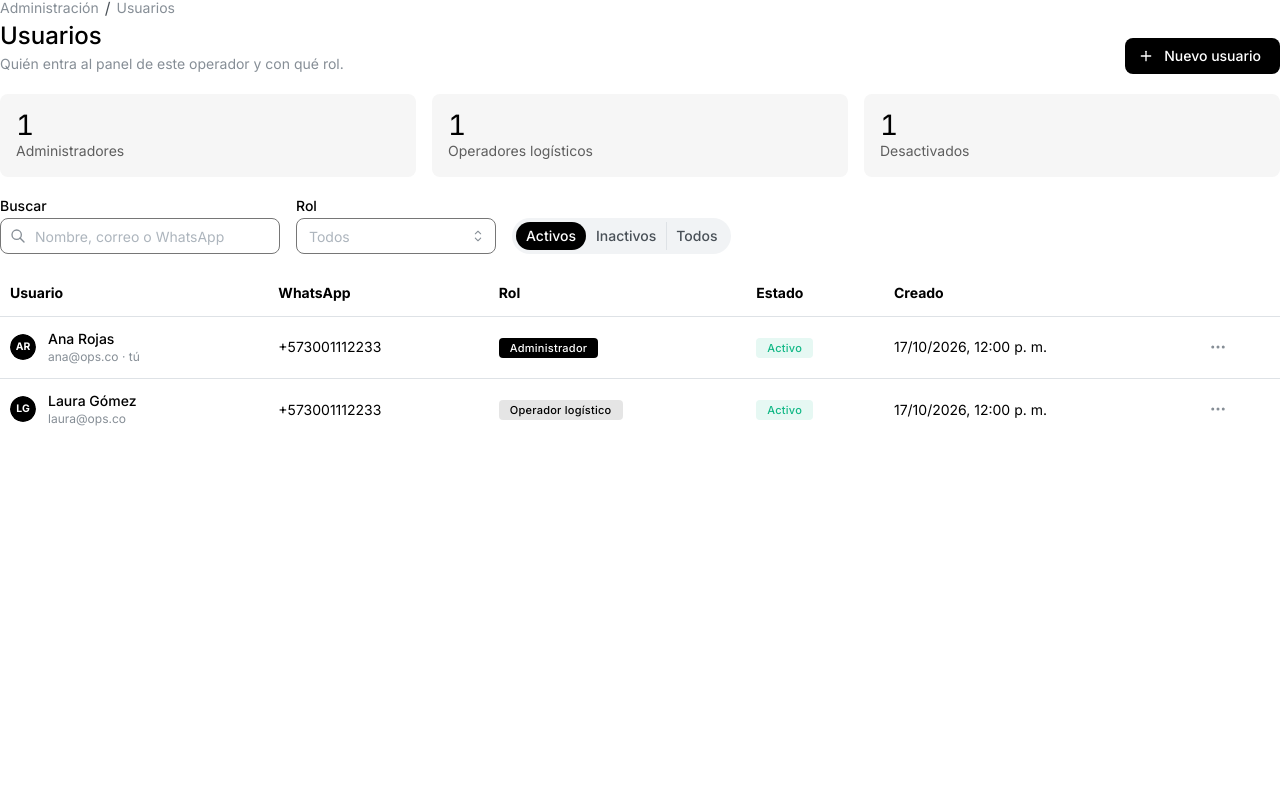
Test: Usuarios del panel (RF-02, RF-24, RF-25) › desactivar pide confirmación; uno mismo no puede cambiarse el rol ni el estado
Click the button named "Acciones de Ana Rojas".
click(1218, 347)  # box [1204, 333, 1232, 361]
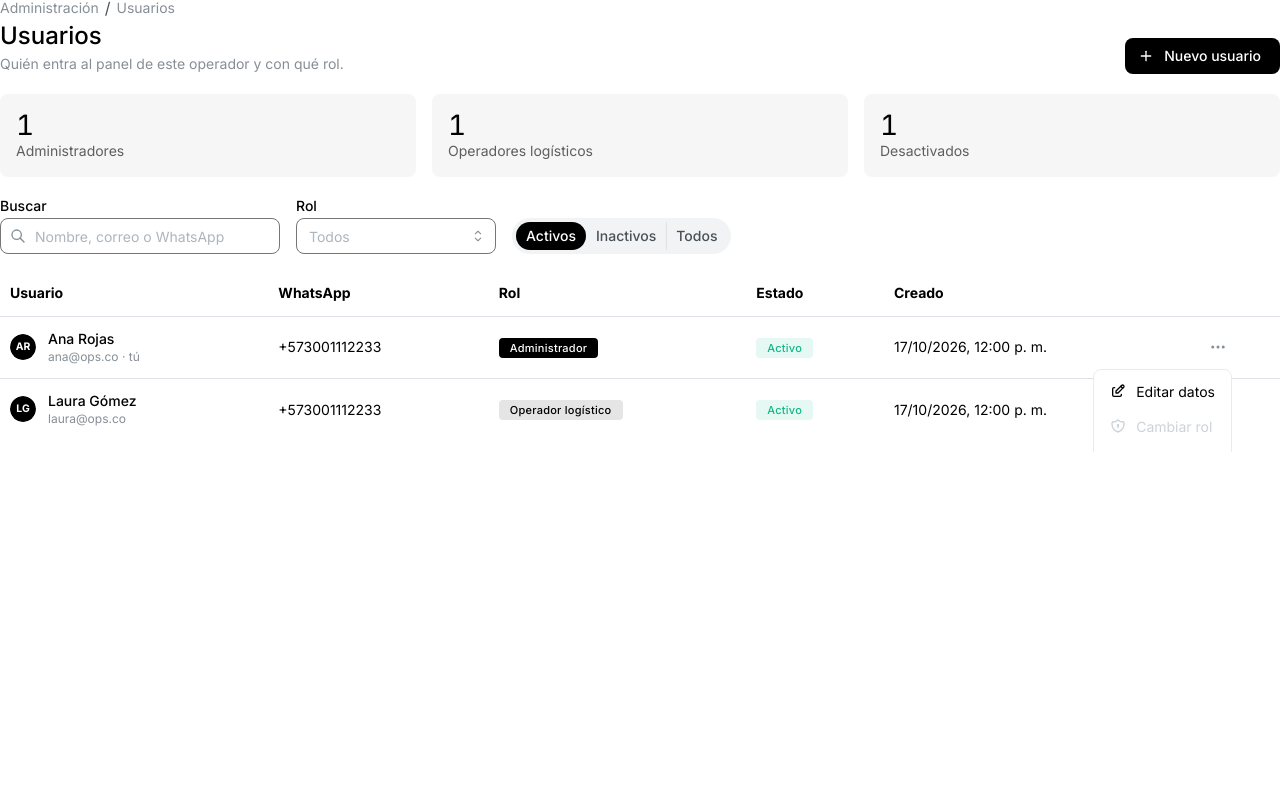
Check: the menu item "Cambiar rol" is disabled, box [1098, 409, 1227, 444]
Press Escape
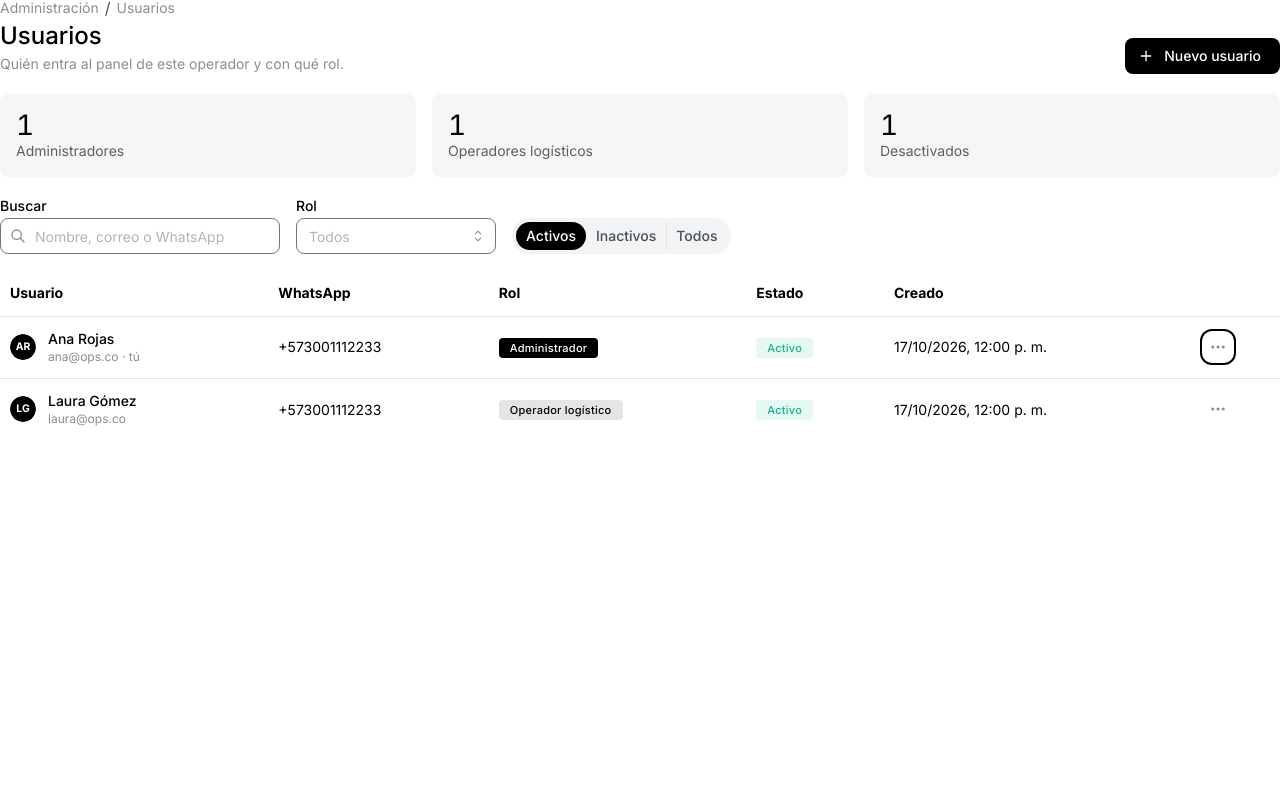
Click the button named "Acciones de Laura Gómez".
click(1218, 409)  # box [1204, 395, 1232, 423]
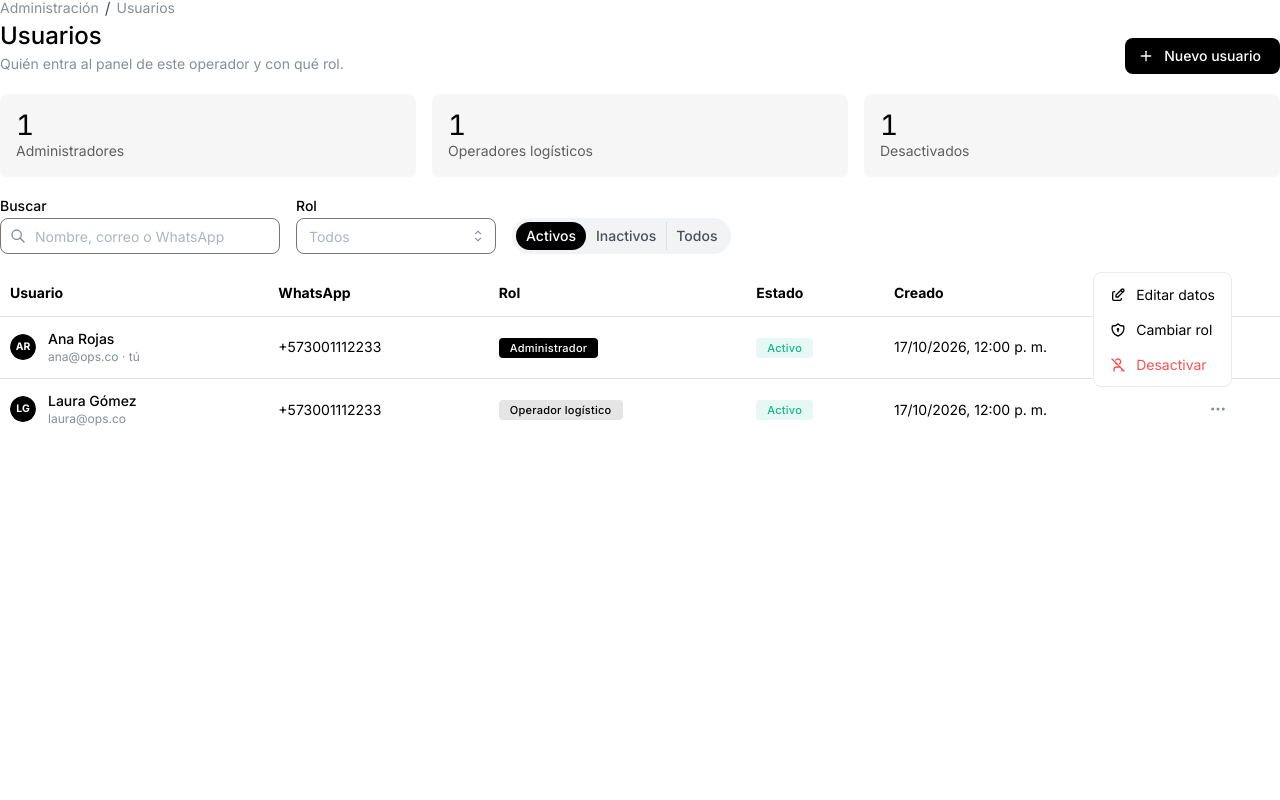
Click the menu item "Desactivar".
click(1163, 365)  # box [1098, 347, 1227, 382]
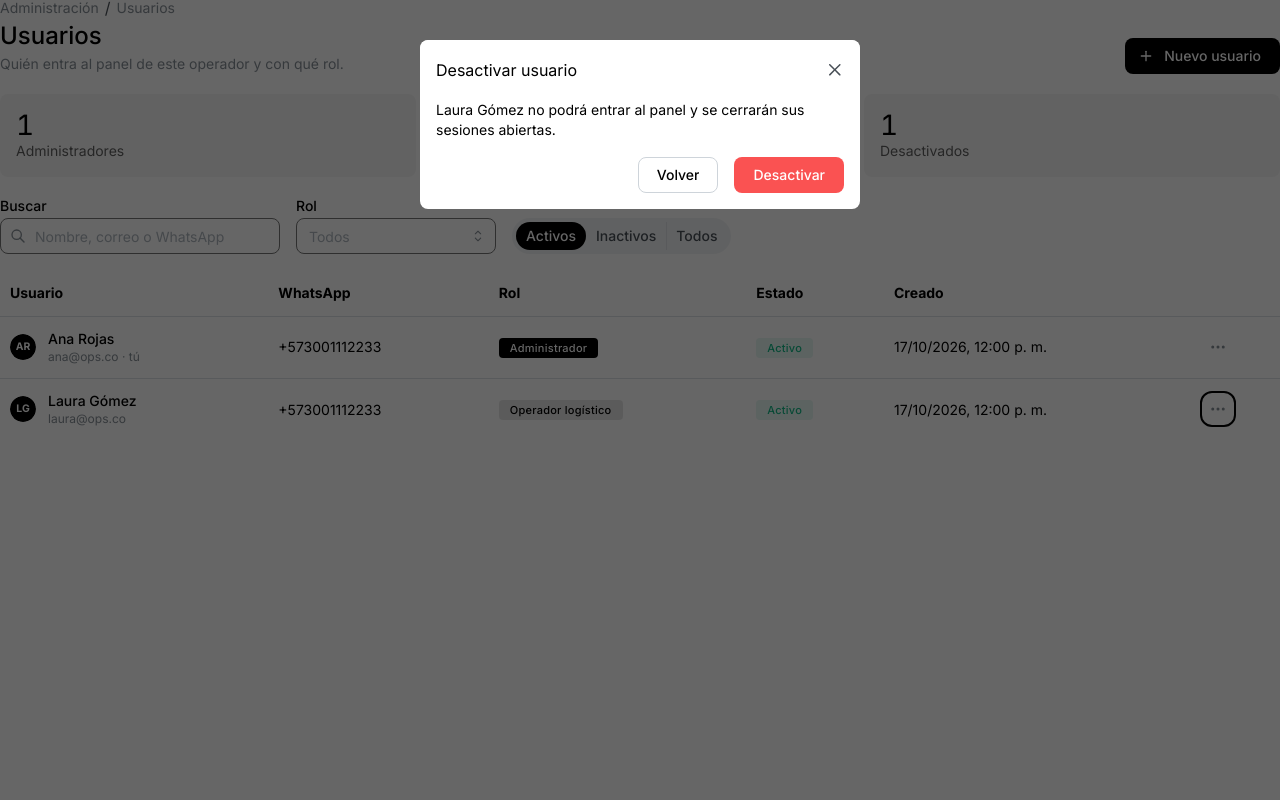
Check: the text "se cerrarán sus sesiones abiertas" is shown, box [436, 101, 804, 138]
Click the button "Desactivar".
click(789, 175)  # box [734, 157, 844, 193]
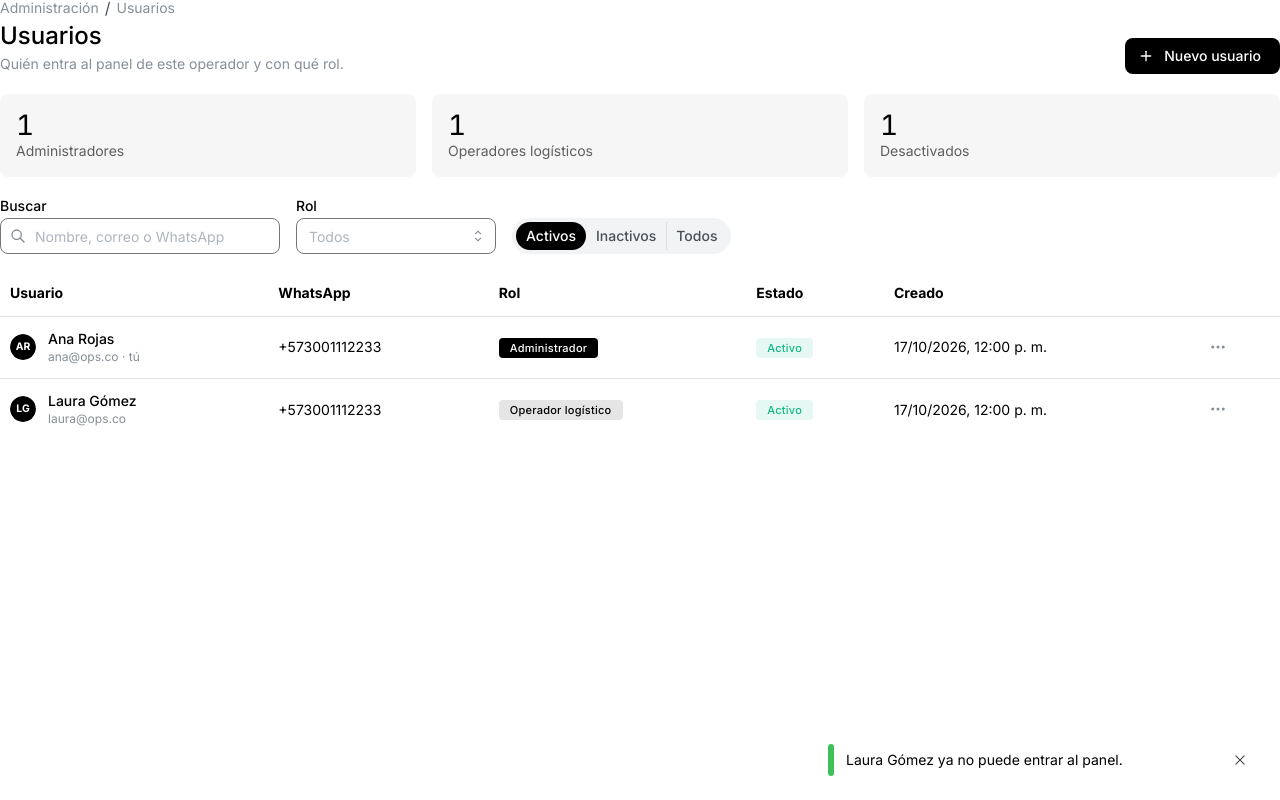
Check: the text "Laura Gómez ya no puede entrar al panel." is shown, box [846, 751, 1123, 768]
